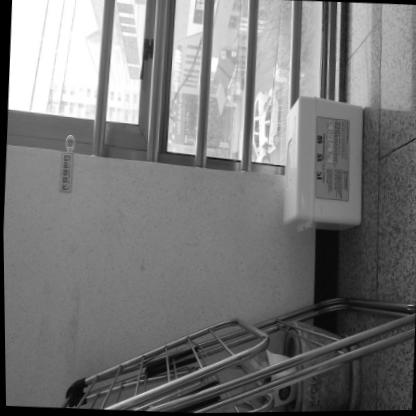DDL: (278, 97, 365, 234)
